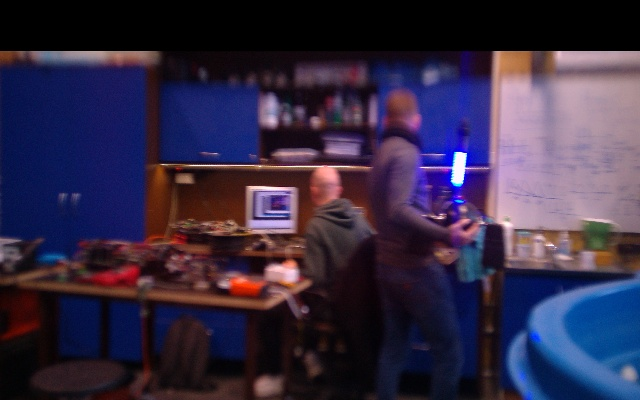blue: (451, 151, 467, 187)
